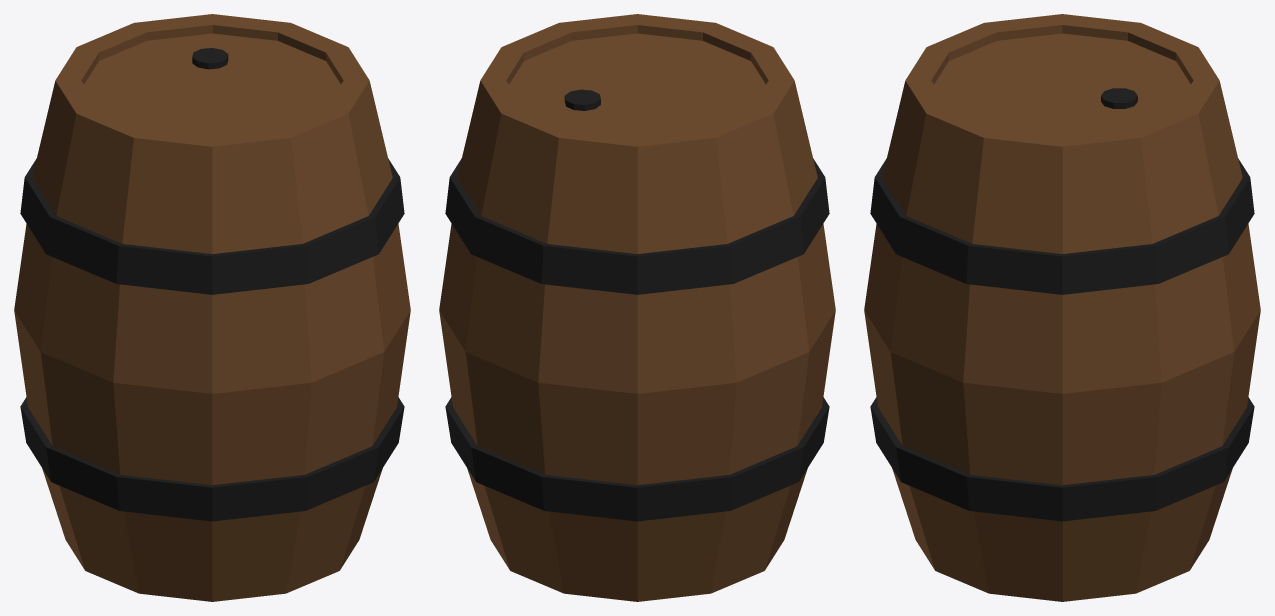
File: barrel.glb
3 renders of one model, left to right at view 1: azimuth 30°, elevation 25°; view 2: azimuth 150°, elevation 25°; view 3: azimuth 270°, elevation 25°, orthographic.
Visible parts, largest first — view 1: Barrel; view 2: Barrel; view 3: Barrel.
Boxes of the visible parts, x1=… form: Barrel: x1=14, y1=14, x2=410, y2=601; Barrel: x1=439, y1=14, x2=835, y2=601; Barrel: x1=864, y1=14, x2=1260, y2=601.
Bounding box in the file's own units: 39.14 × 50.03 × 39.14.
